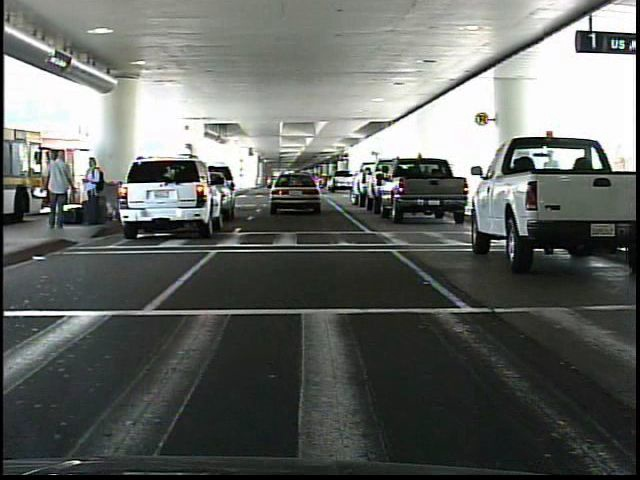person: (44, 149, 77, 233), (81, 155, 107, 228)
